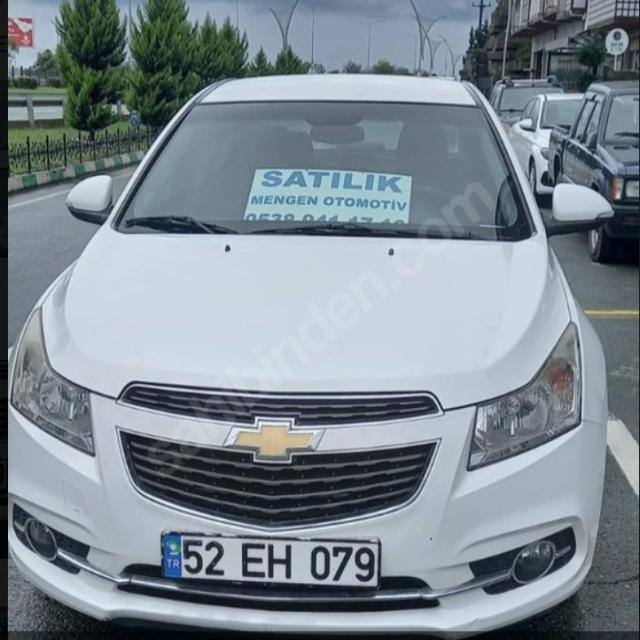chevrolet: (221, 414, 328, 468)
